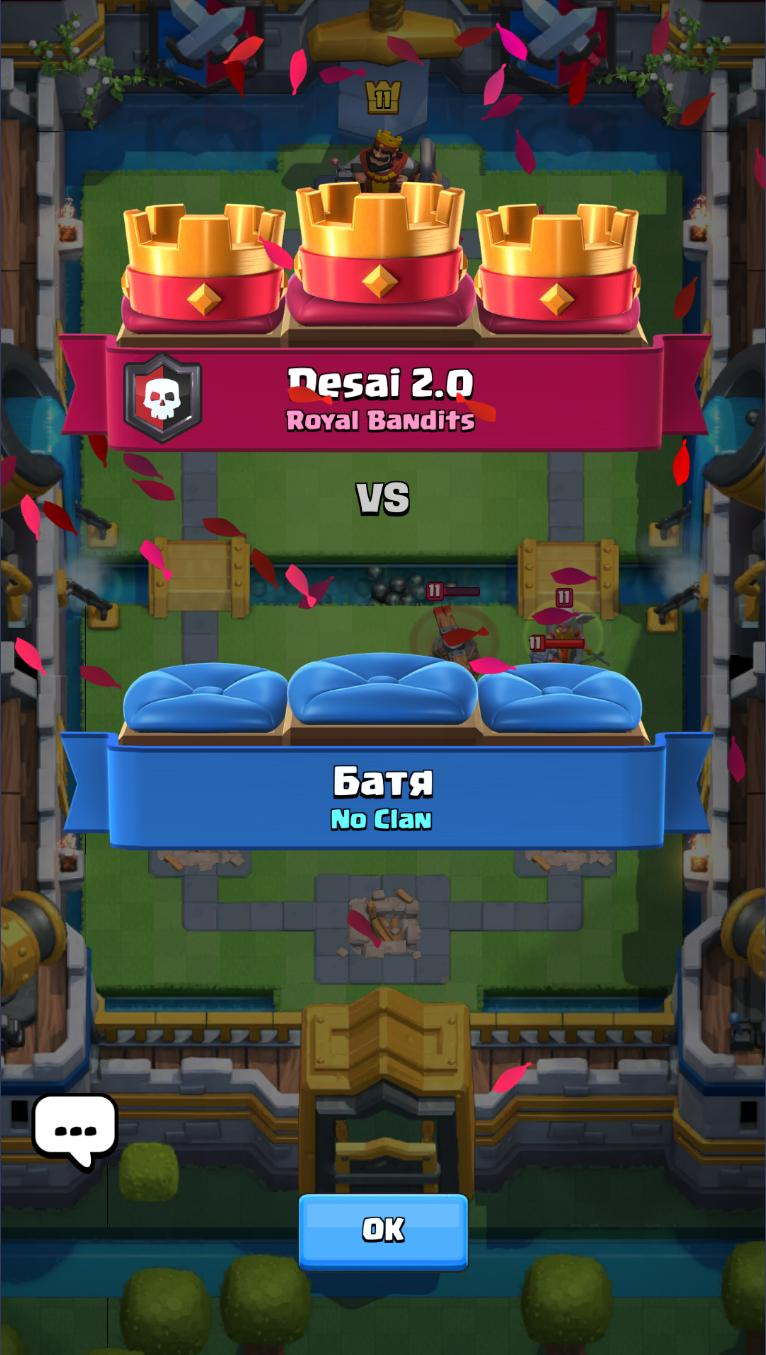FlyingMachine: (410, 582, 501, 662)
Healer: (524, 587, 606, 660)
KingTower: (332, 128, 445, 187)
Lose_3-0: (56, 180, 714, 849)
MyKingTowerBrocken: (313, 873, 451, 985)
